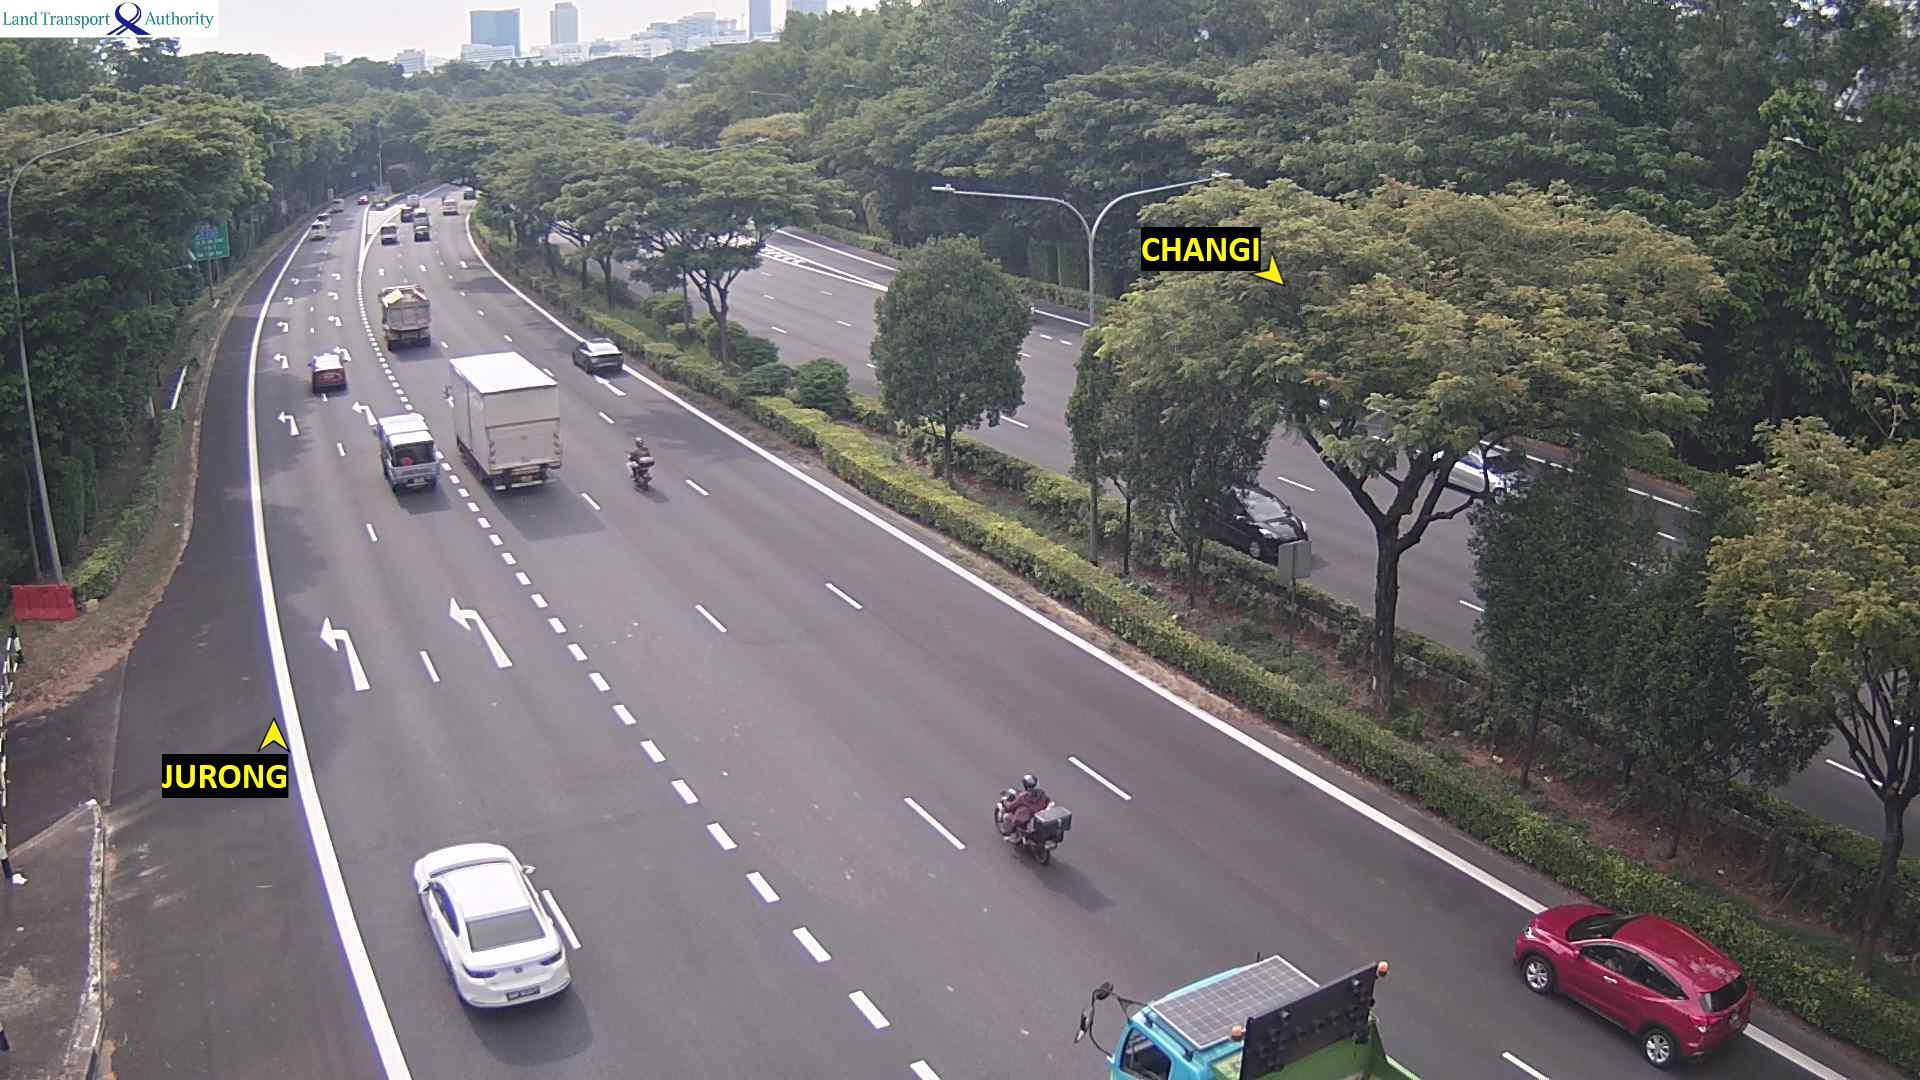incoming: (1234, 492, 1309, 557)
